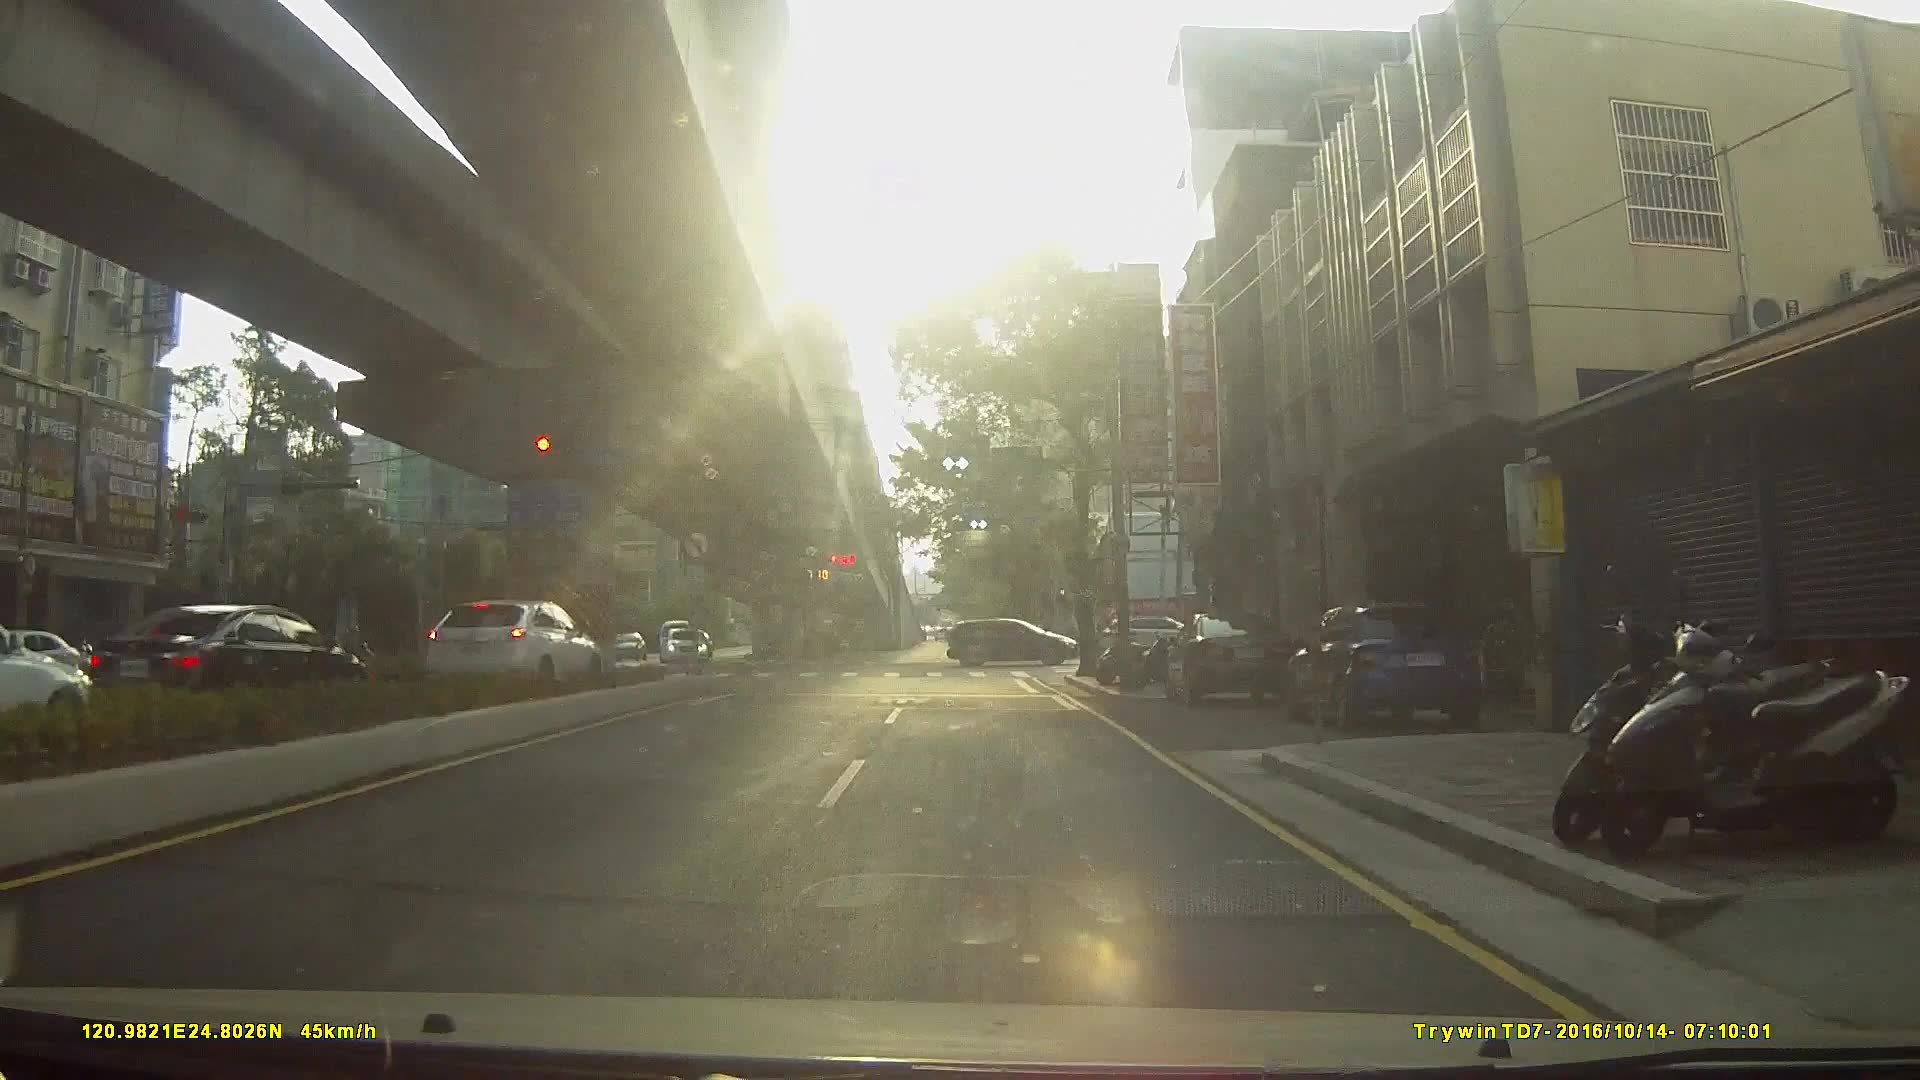vehicle: (61, 595, 378, 713), (1288, 604, 1495, 740), (411, 597, 593, 691), (1164, 611, 1299, 709), (948, 618, 1084, 671), (659, 628, 707, 669), (603, 632, 645, 661)
